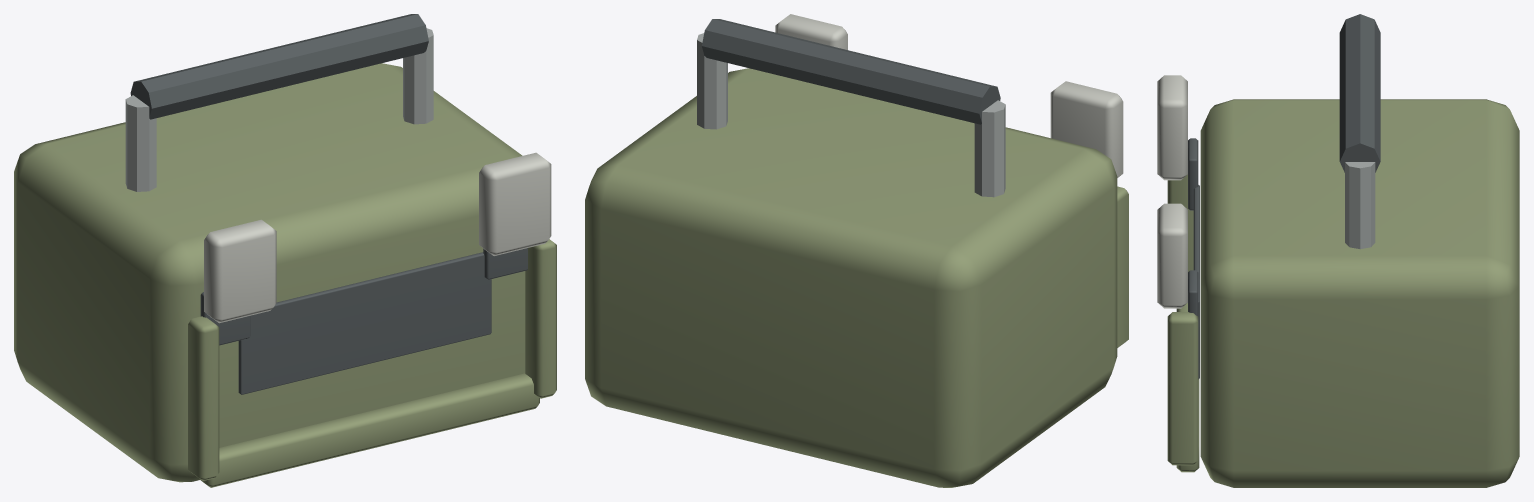
The model's file is Equipment_PartsCrate.fbx.
3 views of the same model, side by side, from view 1: azimuth 30°, elevation 25°; view 2: azimuth 150°, elevation 25°; view 3: azimuth 270°, elevation 25° (orthographic). The views are drawn at different scales.
Visible parts, largest first — view 1: G10_molded bin body, G10_recessed front panel, G10_raised lower molding, G10_raised carry handle, G10_snap lid clasp.001, G10_snap lid clasp, G10_molded vertical rib, G10_molded vertical rib.001, G10_connected handle foot, G10_connected handle foot.001, G10_formed gripping pocket.001, G10_formed gripping pocket; view 2: G10_molded bin body, G10_raised carry handle, G10_snap lid clasp, G10_connected handle foot, G10_connected handle foot.001, G10_molded vertical rib, G10_snap lid clasp.001; view 3: G10_molded bin body, G10_raised carry handle, G10_molded vertical rib.001, G10_snap lid clasp.001, G10_snap lid clasp, G10_connected handle foot.001, G10_molded vertical rib, G10_recessed front panel, G10_formed gripping pocket, G10_formed gripping pocket.001, G10_raised lower molding.
Boxes of the visible parts, x1,y1,x2,y2 form: G10_molded bin body: (14, 63, 525, 482); G10_recessed front panel: (238, 252, 491, 394); G10_raised lower molding: (199, 373, 539, 487); G10_raised carry handle: (130, 14, 428, 119); G10_snap lid clasp.001: (479, 152, 551, 255); G10_snap lid clasp: (204, 219, 276, 323); G10_molded vertical rib: (188, 316, 219, 480); G10_molded vertical rib.001: (525, 239, 556, 398); G10_connected handle foot: (125, 95, 156, 191); G10_connected handle foot.001: (403, 28, 433, 124); G10_formed gripping pocket.001: (483, 248, 527, 279); G10_formed gripping pocket: (200, 292, 250, 345); G10_molded bin body: (585, 68, 1117, 487); G10_raised carry handle: (702, 19, 1000, 124); G10_snap lid clasp: (1050, 81, 1123, 177); G10_connected handle foot: (974, 100, 1005, 197); G10_connected handle foot.001: (697, 33, 727, 129); G10_molded vertical rib: (1117, 186, 1128, 347); G10_snap lid clasp.001: (775, 14, 847, 49); G10_molded bin body: (1200, 99, 1519, 487); G10_raised carry handle: (1339, 14, 1380, 172); G10_molded vertical rib.001: (1167, 312, 1198, 465); G10_snap lid clasp.001: (1157, 203, 1187, 308); G10_snap lid clasp: (1157, 75, 1187, 180); G10_connected handle foot.001: (1345, 162, 1375, 249); G10_molded vertical rib: (1167, 174, 1193, 271); G10_recessed front panel: (1193, 185, 1199, 379); G10_formed gripping pocket: (1188, 138, 1198, 210); G10_formed gripping pocket.001: (1188, 270, 1198, 316); G10_raised lower molding: (1176, 303, 1199, 472).
Size of the model in its own units: 0.34 by 0.286 by 0.284.
